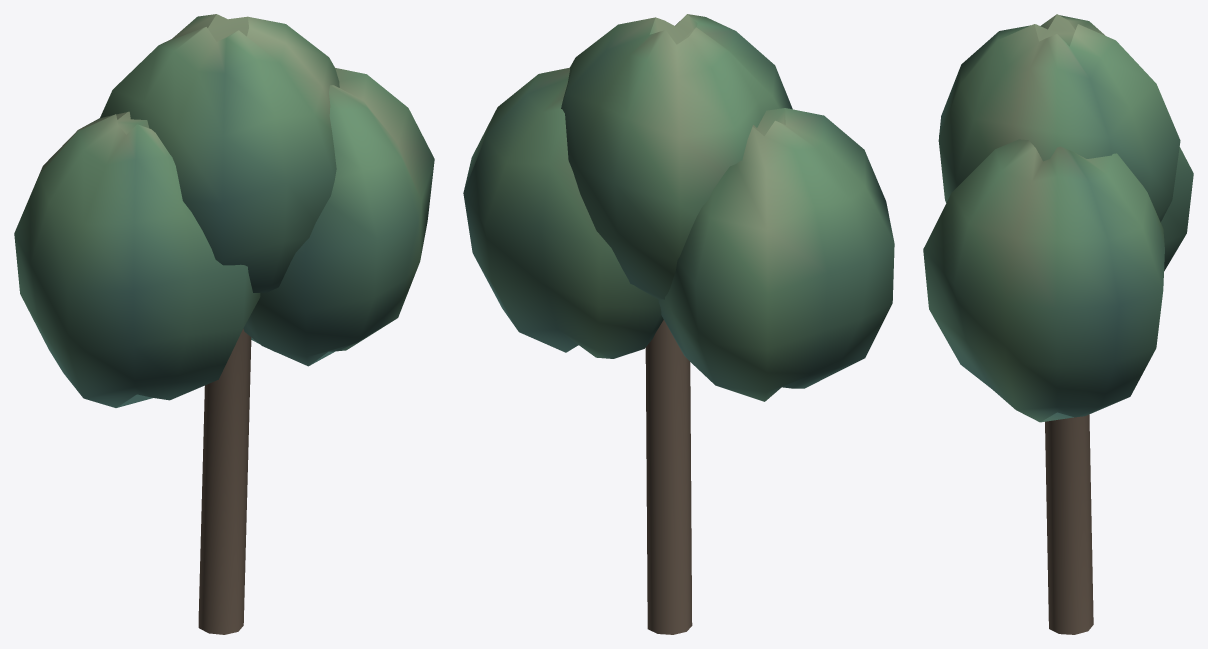
File: metro_foliage.glb
The picture shows the model from 3 angles, left to right: view 1: azimuth 30°, elevation 25°; view 2: azimuth 150°, elevation 25°; view 3: azimuth 270°, elevation 25°; orthographic projection.
Visible parts, largest first — view 1: Foliage; view 2: Foliage; view 3: Foliage.
Part boxes in pixels (x1,y1,x2,y2): Foliage: (14,14,434,634); Foliage: (463,14,894,634); Foliage: (923,14,1193,634).
Size of the model in its own units: 2.4 by 3.46 by 1.41.
